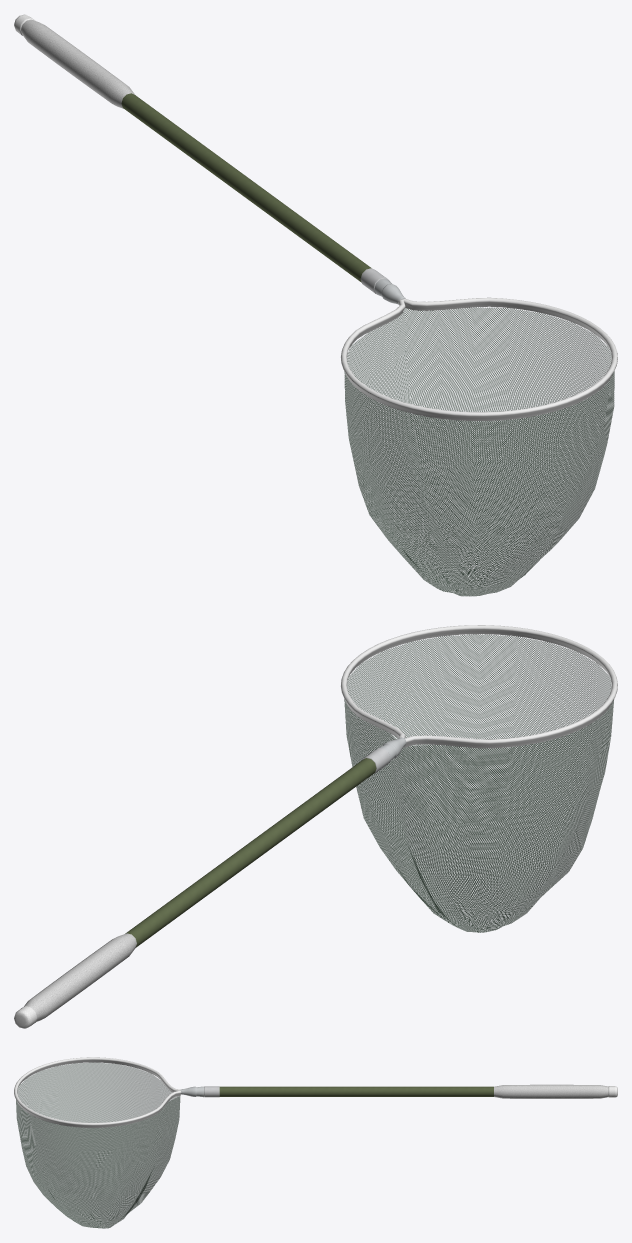
The model's file is net_shallow.lod2.glb.
3 views of the same model, one above another, from view 1: azimuth 30°, elevation 25°; view 2: azimuth 150°, elevation 25°; view 3: azimuth 270°, elevation 25° (orthographic). The views are drawn at different scales.
Parts seen in each view (by area): view 1: Bag, Handle, Frame; view 2: Bag, Handle, Frame; view 3: Bag, Handle, Frame.
Part boxes in pixels (left/top/right/bottom): Bag: left=344, top=307, right=614, bottom=596; Handle: left=14, top=14, right=388, bottom=294; Frame: left=340, top=278, right=617, bottom=421; Bag: left=344, top=634, right=613, bottom=932; Handle: left=14, top=747, right=390, bottom=1028; Frame: left=340, top=625, right=617, bottom=762; Bag: left=16, top=1063, right=180, bottom=1228; Handle: left=204, top=1084, right=617, bottom=1098; Frame: left=14, top=1057, right=204, bottom=1127.
Size of the model in its own units: 0.3068 by 0.3003 by 1.17.
Materials: 7 (7 with a texture image).
